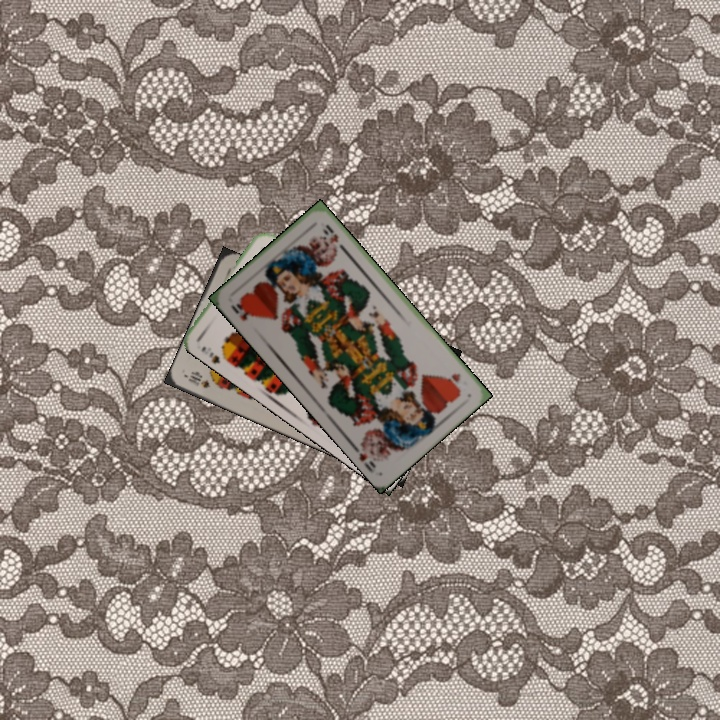HO: (227, 299, 255, 323), (445, 369, 464, 394)
S10: (183, 368, 213, 391)
S9: (197, 342, 233, 366)
